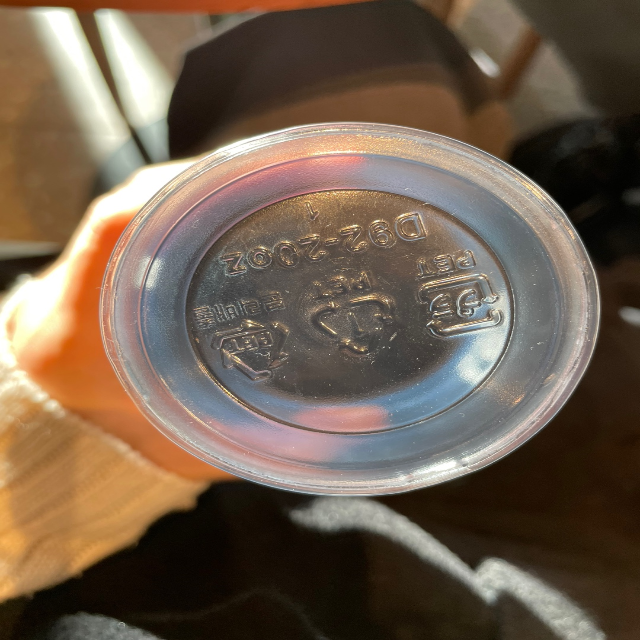pet: (189, 289, 299, 387), (407, 246, 507, 339), (305, 267, 402, 362)
